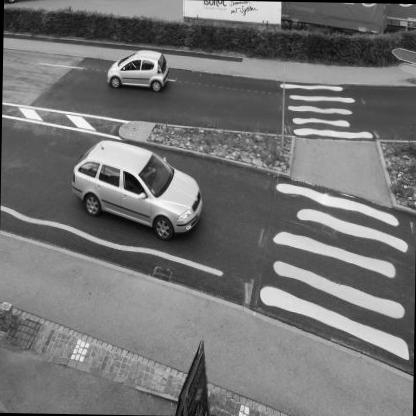car: (68, 118, 223, 258), (96, 42, 189, 104)
